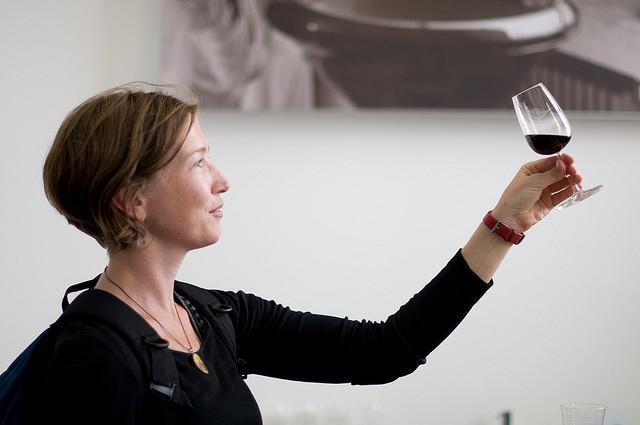glass-wine: (513, 83, 604, 209)
